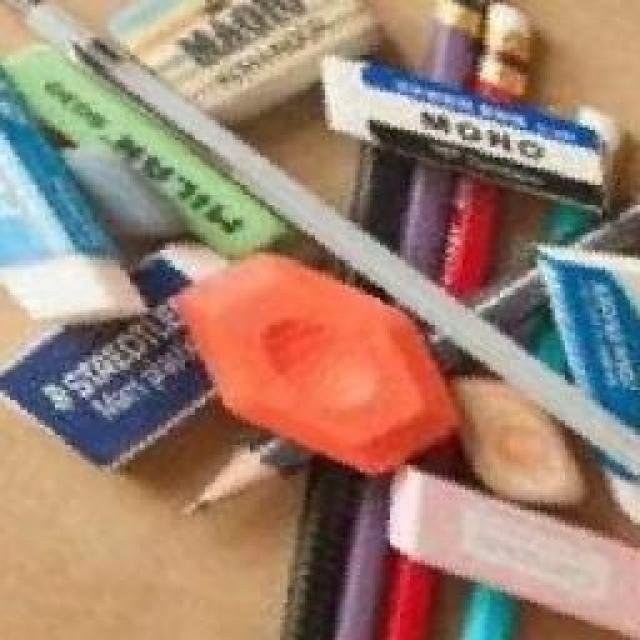Silgi: (316, 49, 612, 217)
